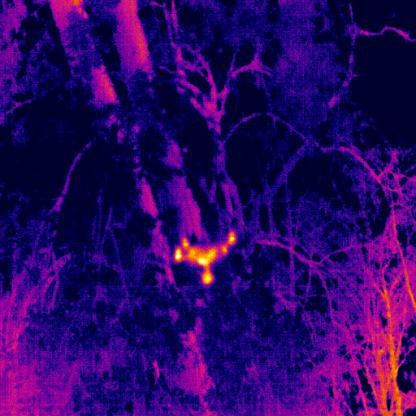drone: (174, 232, 236, 285)
